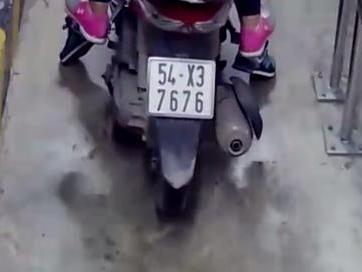num_plate: (145, 55, 217, 120)
